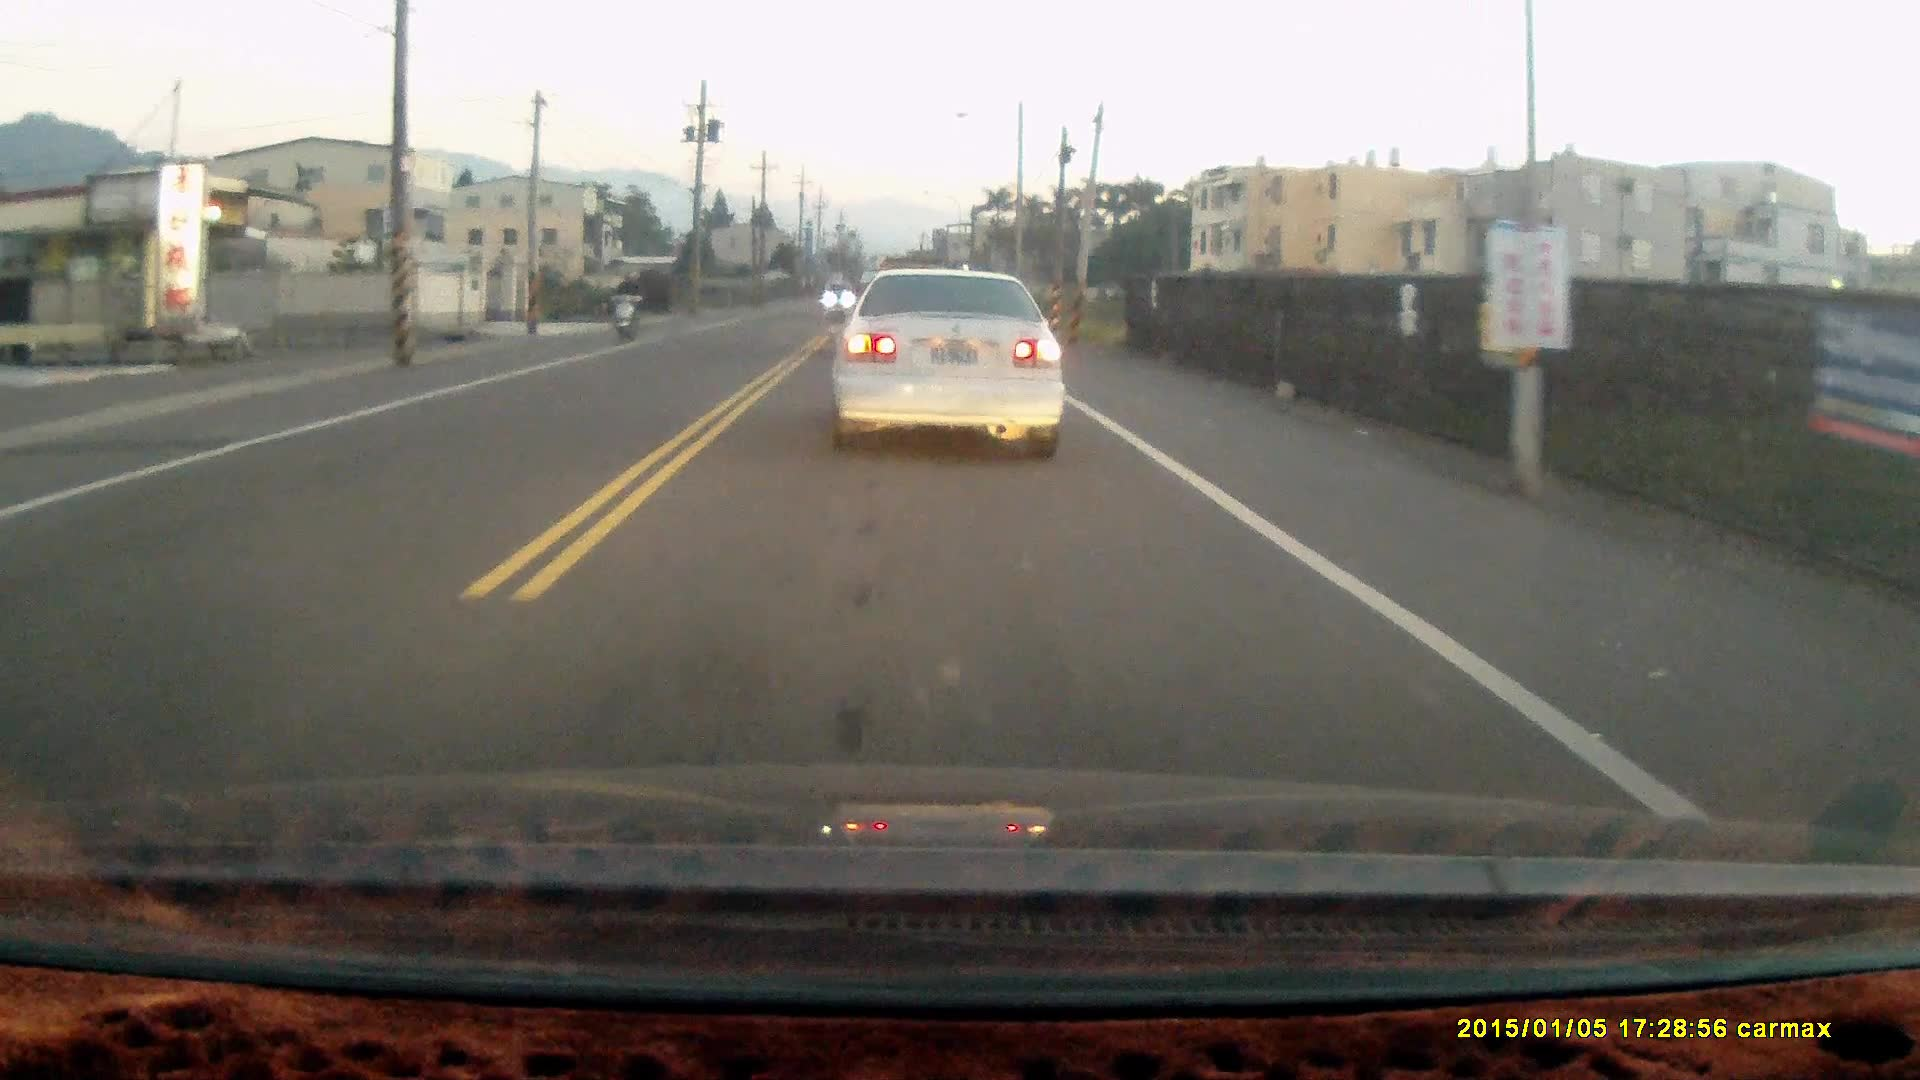rider: (606, 268, 641, 345)
vehicle: (831, 266, 1076, 467)
